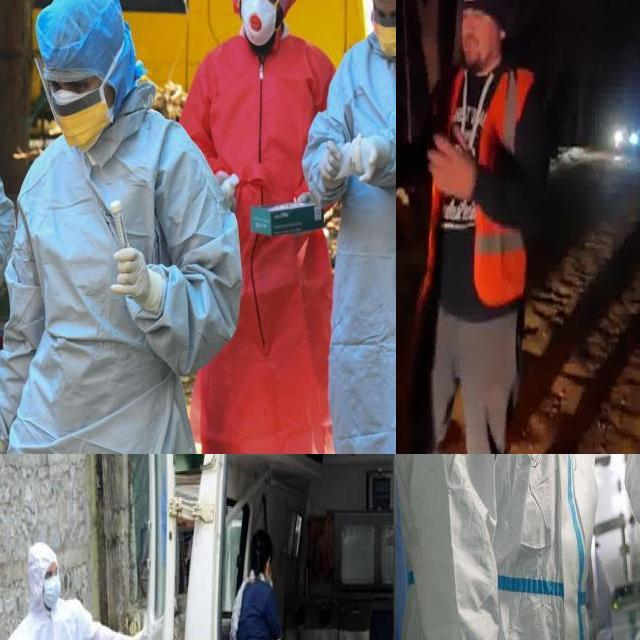Glove: (108, 247, 165, 306), (345, 132, 388, 184), (322, 145, 349, 181), (126, 627, 148, 640)
MASK: (46, 91, 115, 151), (241, 0, 276, 45), (375, 20, 396, 56), (42, 574, 59, 606)
VEST: (416, 68, 534, 311)
